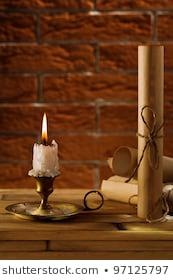fire: (39, 109, 51, 142)
